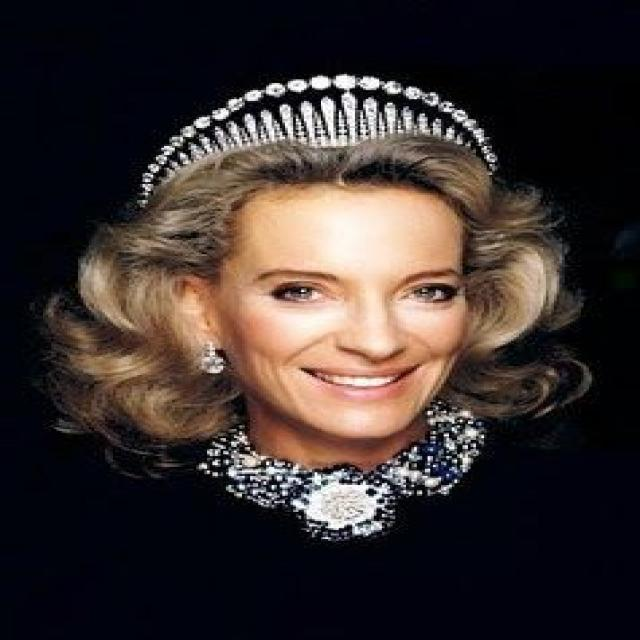Earring: (185, 331, 238, 378)
